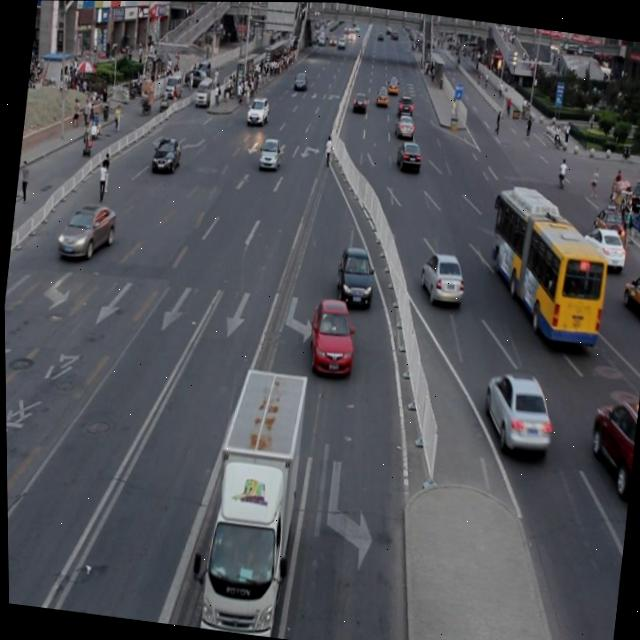bus: (192, 360, 309, 638)
car: (478, 368, 554, 451), (584, 395, 638, 489), (304, 295, 358, 375), (55, 199, 118, 261), (333, 243, 376, 309), (416, 248, 465, 304), (578, 223, 626, 267), (150, 135, 183, 175), (590, 202, 624, 239), (617, 265, 640, 319)
van: (480, 185, 612, 345)
